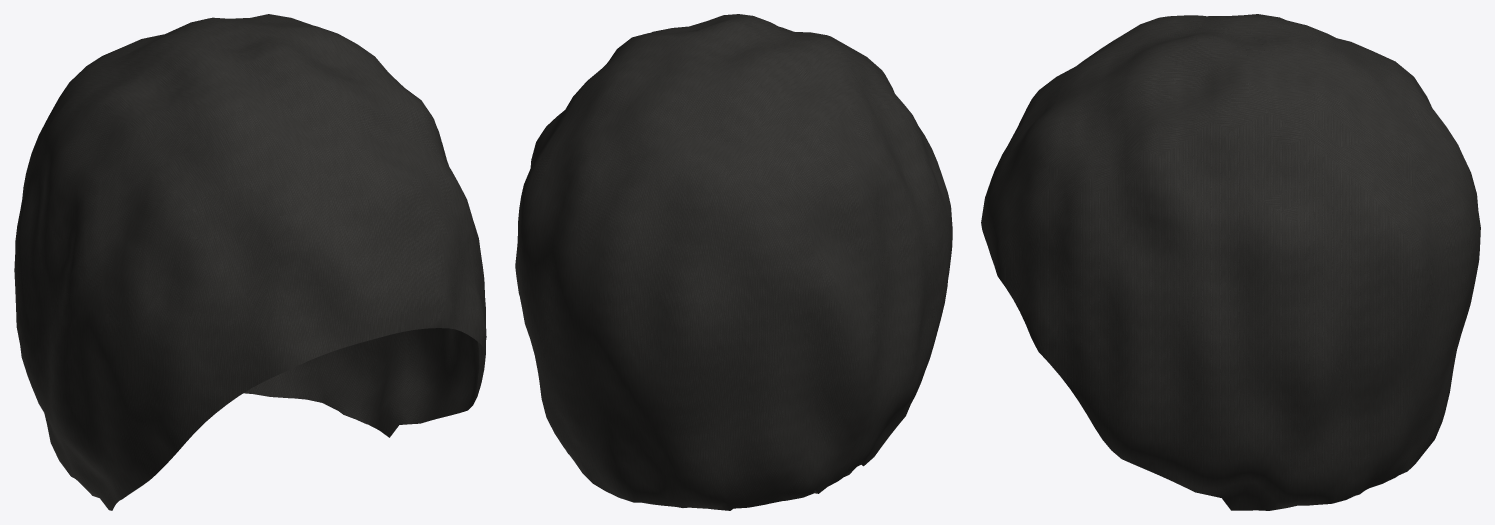
Rendered from cowl-head-v1.glb.
The picture shows the model from 3 angles, left to right: view 1: azimuth 30°, elevation 25°; view 2: azimuth 150°, elevation 25°; view 3: azimuth 270°, elevation 25°; orthographic projection. The views are drawn at different scales.
Visible parts, largest first — view 1: cowl_outer; view 2: cowl_outer; view 3: cowl_outer.
Boxes of the visible parts, box(x1,y1,x2,y2) form: cowl_outer: box(14, 14, 486, 510); cowl_outer: box(515, 14, 952, 510); cowl_outer: box(981, 14, 1480, 510).
Bounding box in the file's own units: 0.241 × 0.2557 × 0.2789.
1 material, 1 textured.
